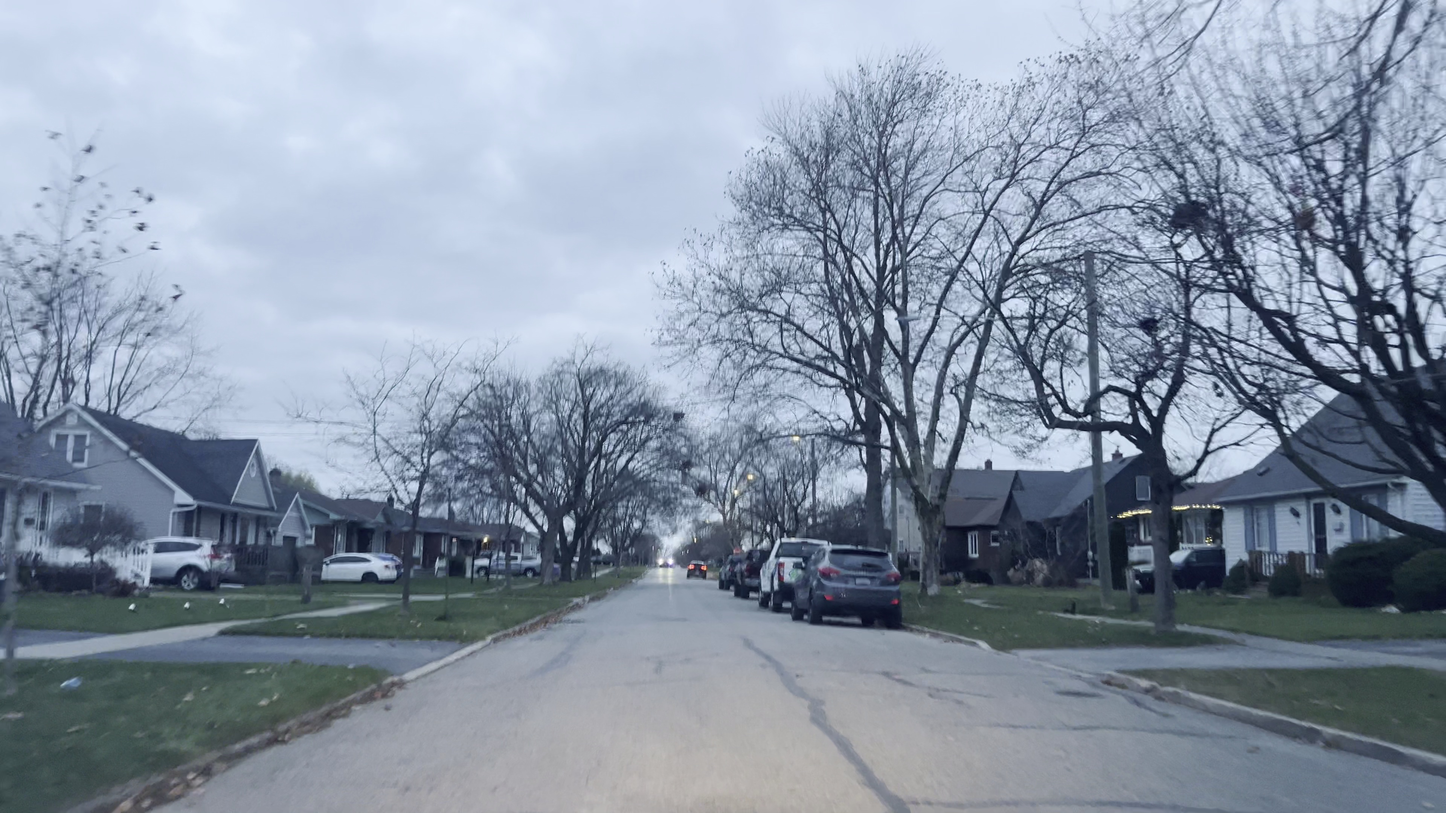cracks: (778, 687, 920, 800), (992, 720, 1225, 739), (742, 637, 813, 690), (1065, 678, 1149, 716), (880, 665, 950, 696)
